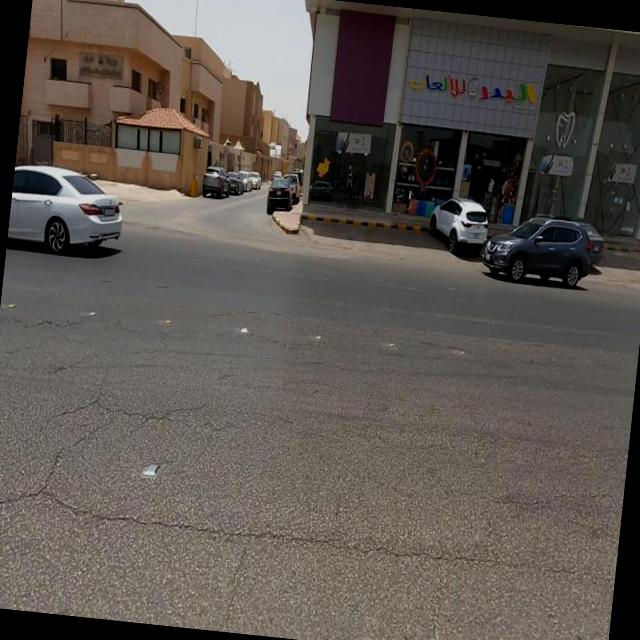debris: (39, 17, 167, 123)
